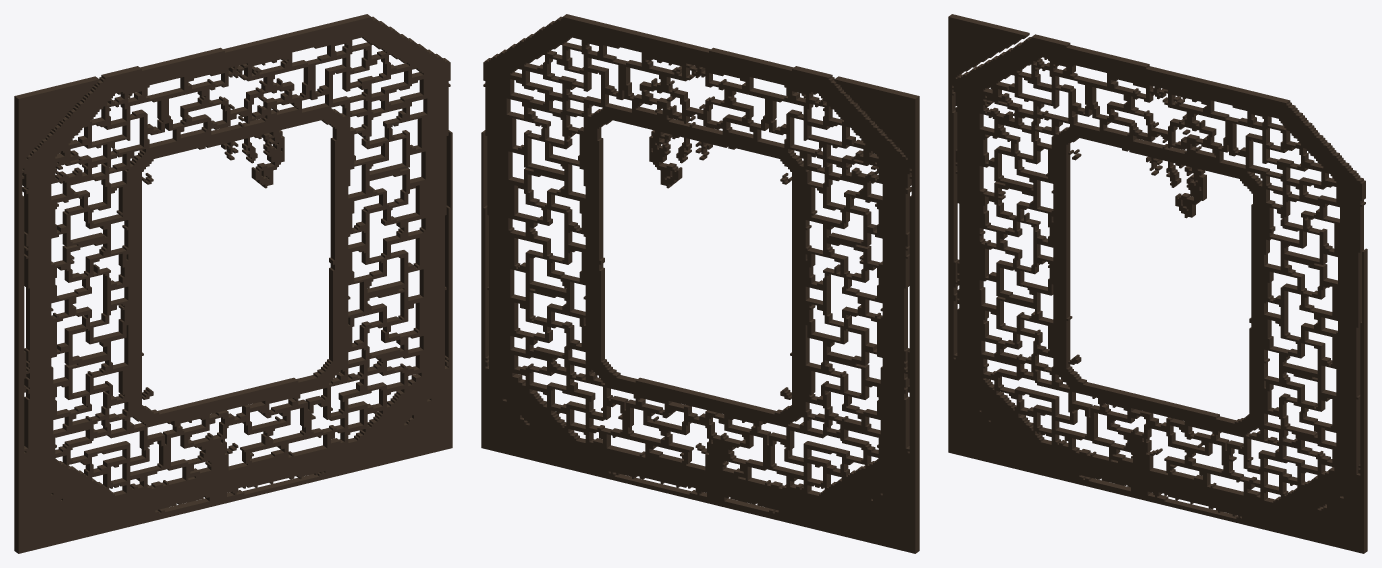
Rendered from lattice_window.glb.
3 renders of one model, left to right at view 1: azimuth 30°, elevation 25°; view 2: azimuth 150°, elevation 25°; view 3: azimuth 330°, elevation 25°, orthographic. The views are drawn at different scales.
Visible parts, largest first — view 1: Lattice_Silhouette; view 2: Lattice_Silhouette; view 3: Lattice_Silhouette.
Part boxes in pixels (left/top/right/bottom): Lattice_Silhouette: left=14, top=14, right=452, bottom=553; Lattice_Silhouette: left=481, top=14, right=919, bottom=553; Lattice_Silhouette: left=948, top=14, right=1367, bottom=553.
Bounding box in the file's own units: 1.5 × 1.5 × 0.0246.
